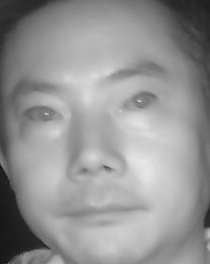eye: (21, 99, 67, 130), (116, 90, 163, 119)
mouth: (55, 189, 147, 234)
